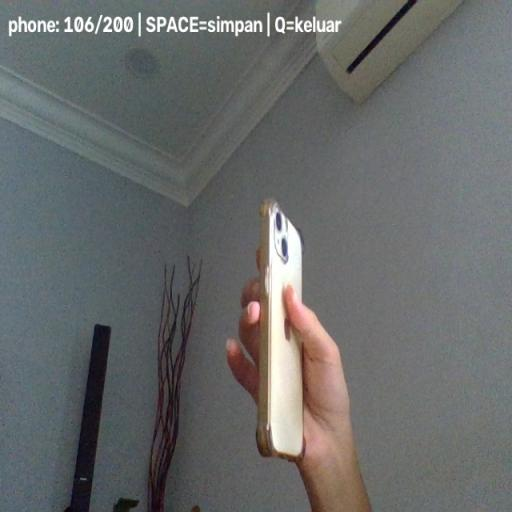Phone: (256, 199, 306, 462)
